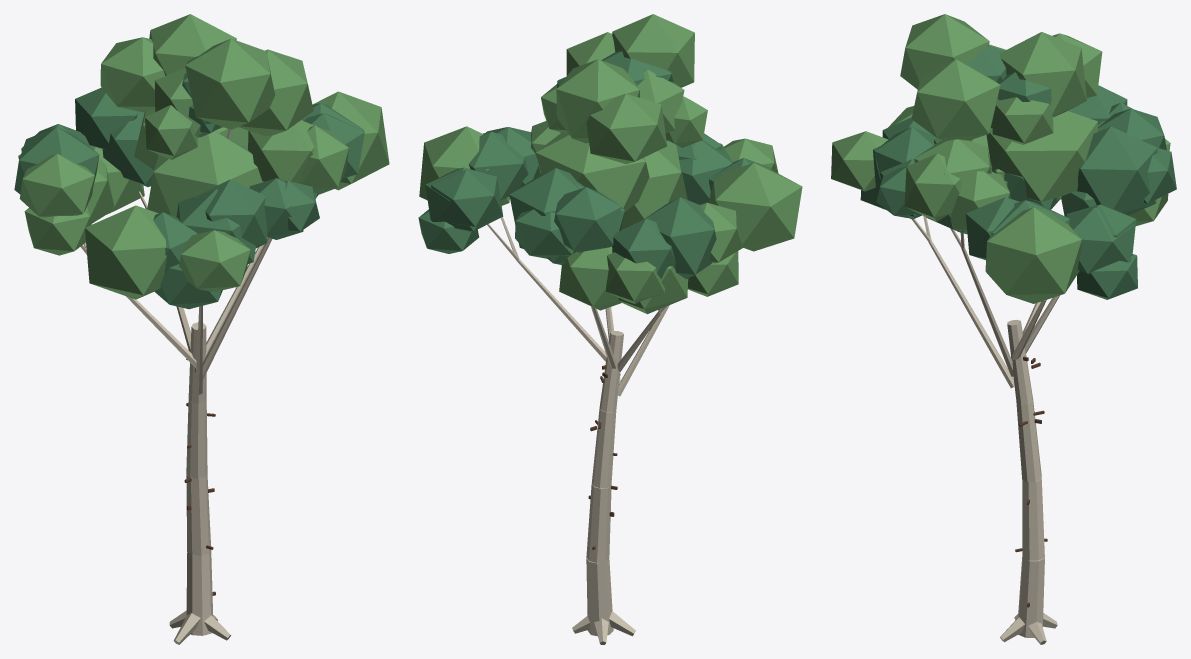
File: arbre_bouleau.glb
The picture shows the model from 3 angles, left to right: view 1: azimuth 30°, elevation 25°; view 2: azimuth 150°, elevation 25°; view 3: azimuth 270°, elevation 25°; orthographic projection. The views are drawn at different scales.
Visible parts, largest first — view 1: arbre_bouleau; view 2: arbre_bouleau; view 3: arbre_bouleau.
Part boxes in pixels (x1,y1,x2,y2): arbre_bouleau: [14, 14, 389, 644]; arbre_bouleau: [418, 14, 802, 644]; arbre_bouleau: [831, 14, 1176, 644].
Bounding box in the file's own units: 6.91 × 12.03 × 6.13.
